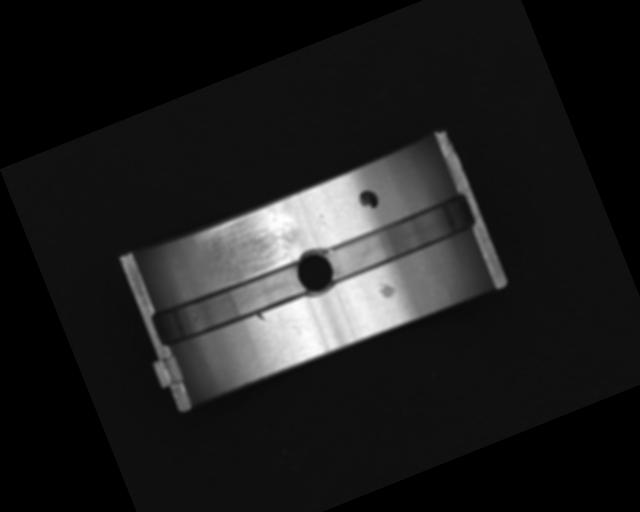blot: (355, 184, 381, 212)
bruise: (375, 278, 399, 302), (256, 311, 266, 323)
gap: (149, 255, 312, 353), (319, 191, 477, 285)
hole: (290, 243, 342, 300)
scratch: (195, 198, 310, 289)
